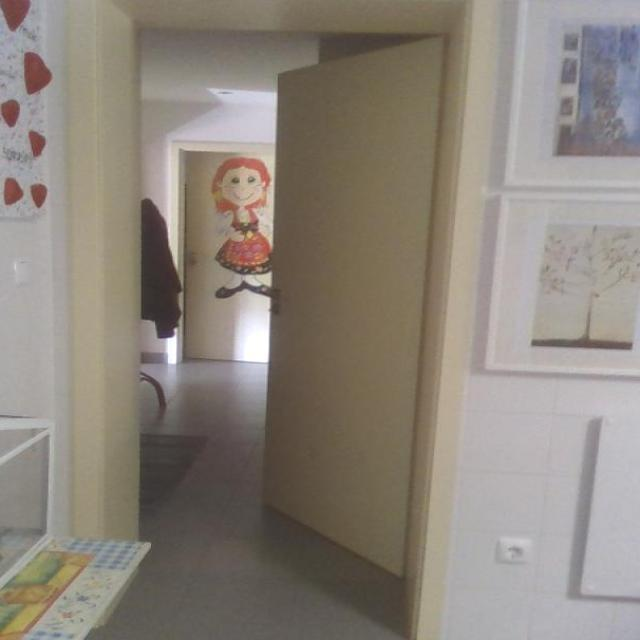door: (261, 33, 446, 579)
